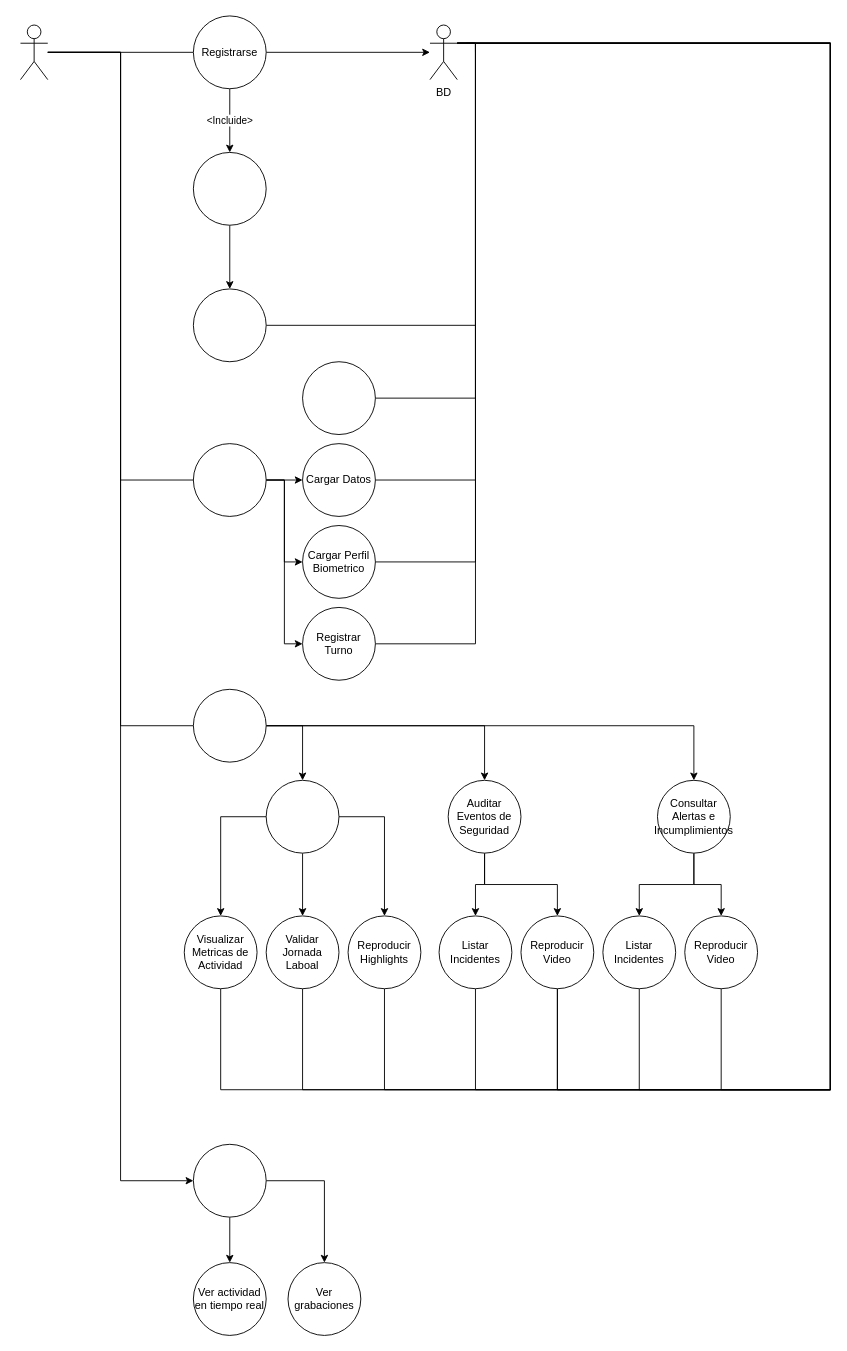
The diagram is 847 pixels wide and 1351 high, and some of its shapes have lost their labels. Here are the shapes that lost their labels. From the top down, the centre of each, then its label:
the point at 34,52: Usuario
the point at 229,188: Iniciar Sesion
the point at 229,325: Identificar Usuario
the point at 338,398: Elminar Empleado
the point at 229,479: Gestionar Empleado
the point at 229,725: Gestionar Metricas y Seguridad
the point at 302,816: Consultar Rendimiento Laboral
the point at 229,1180: Monitoreo
